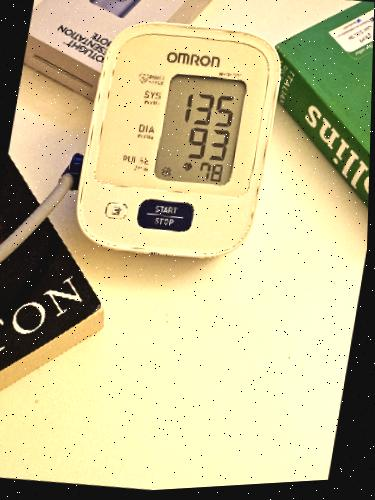bpm: (151, 66, 248, 193)
